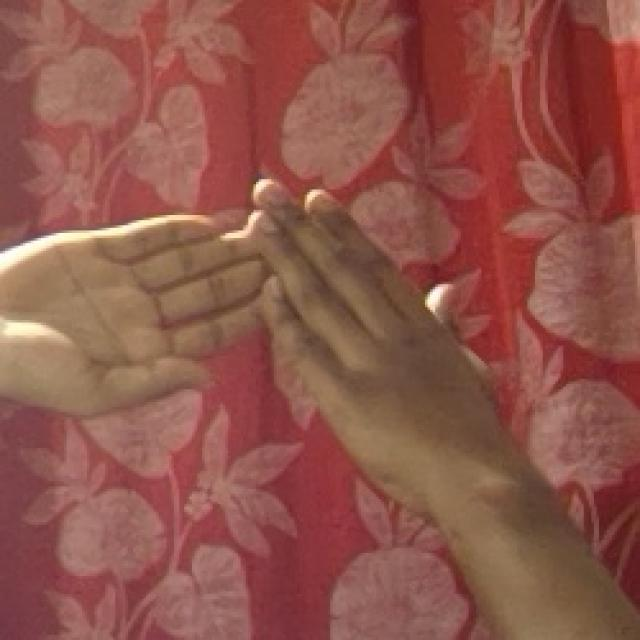Alphabet-H: (19, 168, 518, 530)
